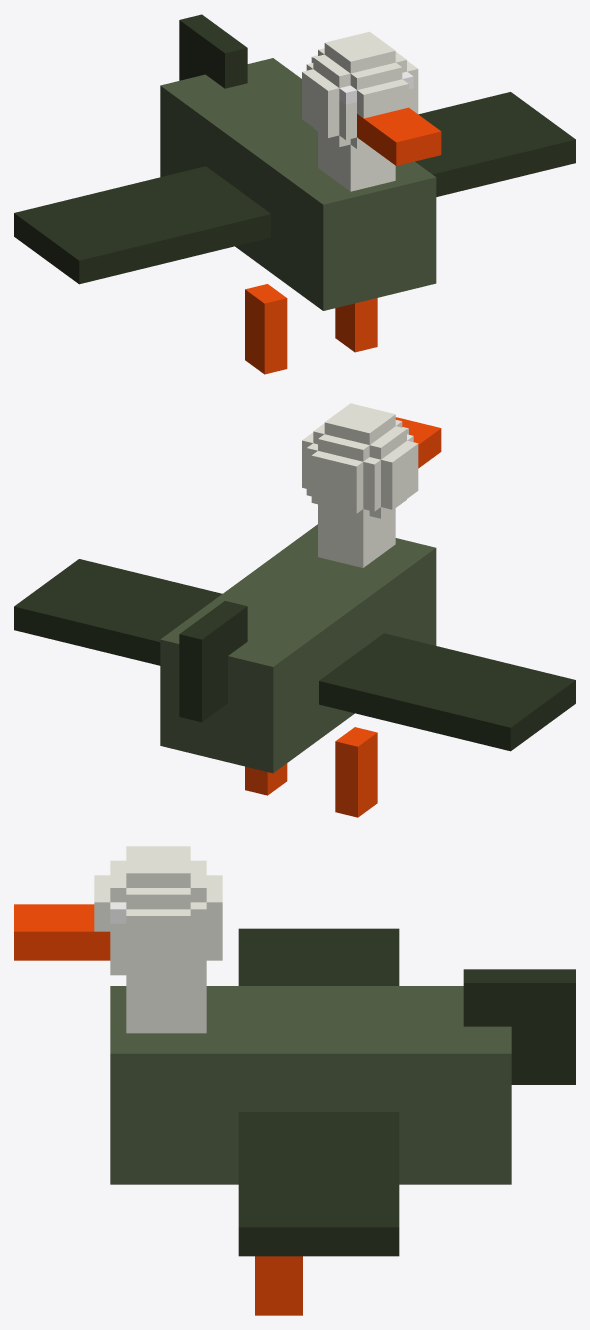
The model's file is bombombini_gusini.glb.
The picture shows the model from 3 angles, top to bottom: view 1: azimuth 30°, elevation 25°; view 2: azimuth 150°, elevation 25°; view 3: azimuth 270°, elevation 25°; orthographic projection. The views are drawn at different scales.
Parts seen in each view (by area): view 1: brainrot; view 2: brainrot; view 3: brainrot.
Part boxes in pixels (x1=…): brainrot: x1=14, y1=14, x2=575, y2=374; brainrot: x1=14, y1=403, x2=575, y2=817; brainrot: x1=14, y1=846, x2=575, y2=1315.
Bounding box in the file's own units: 7.59 × 5 × 6.03.
1 material, 1 textured.
